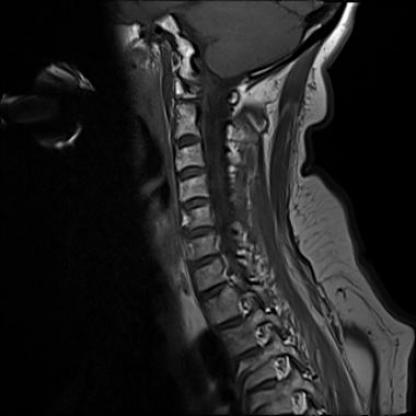Disc Bulgerotation: (180, 220, 220, 241), (186, 248, 224, 270)
